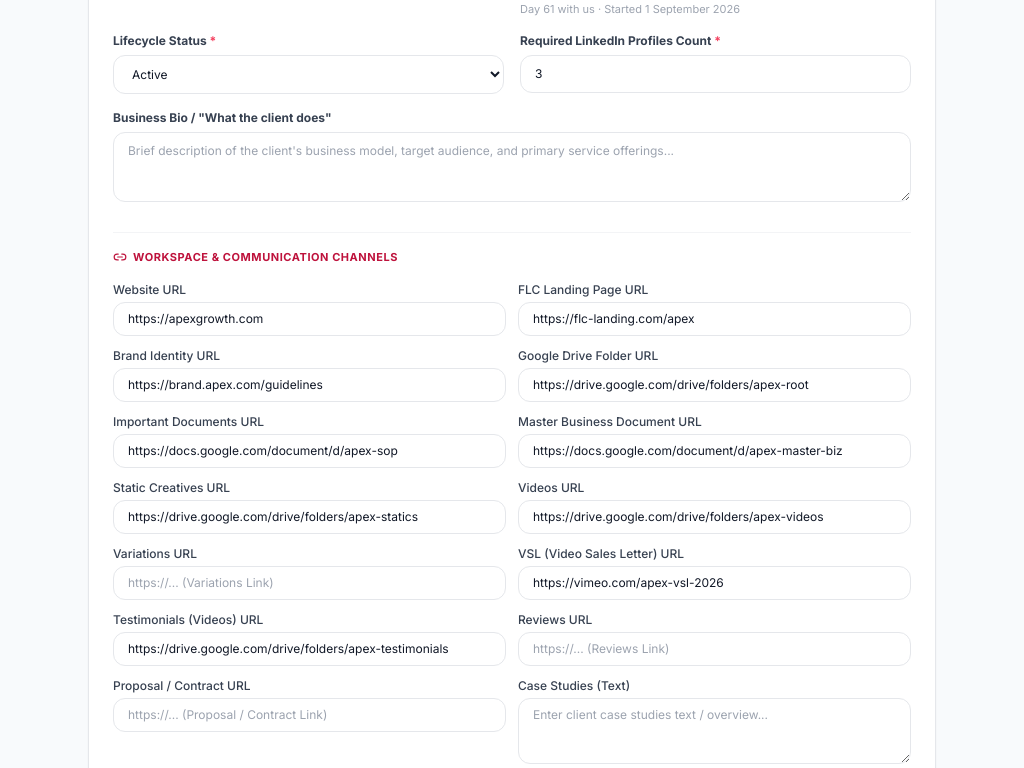
Scenario: Workspace Links & Unsaved Draft Protection Enhancement Suite › 8. Clicking Discard Changes prompts confirmation modal, reverts changes, and clears draft on confirmation
(page scrolled)
Replace the text in the field labelled "Brand Identity URL" with "https://temporary-modified-brand.com": (310, 384) [113,368,506,402]
(page scrolled)
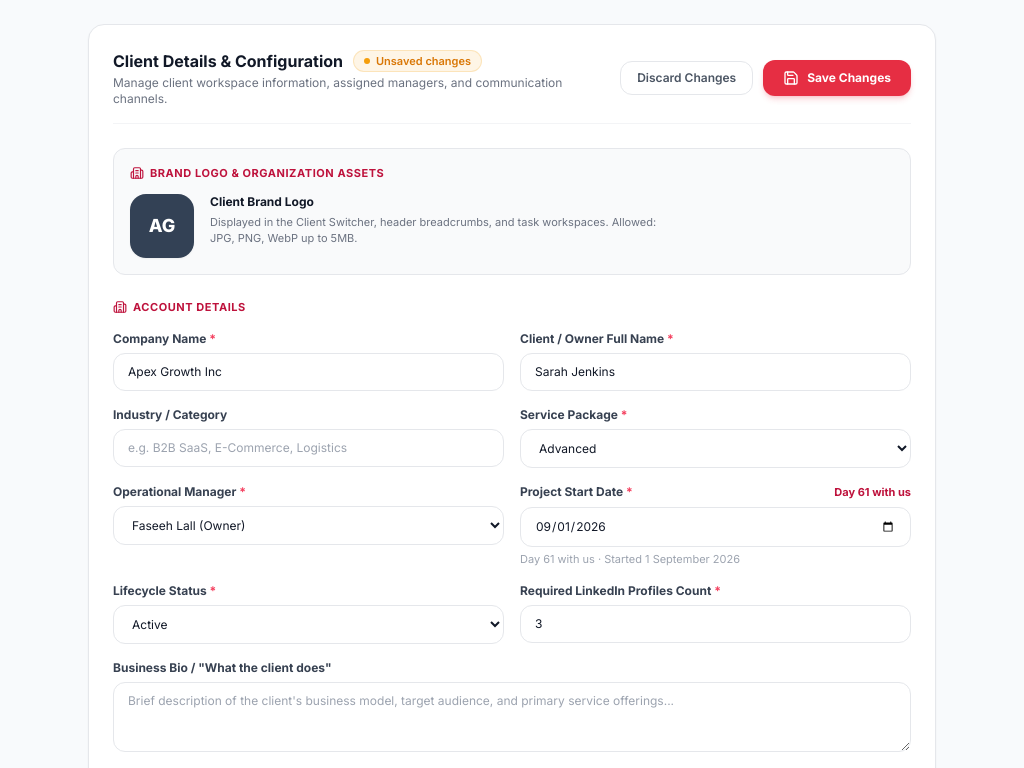
Expected: the element with test id "unsaved-changes-indicator" is shown, [353,50,482,72]
Click the button "Discard Changes": (687, 78) [620,61,753,95]
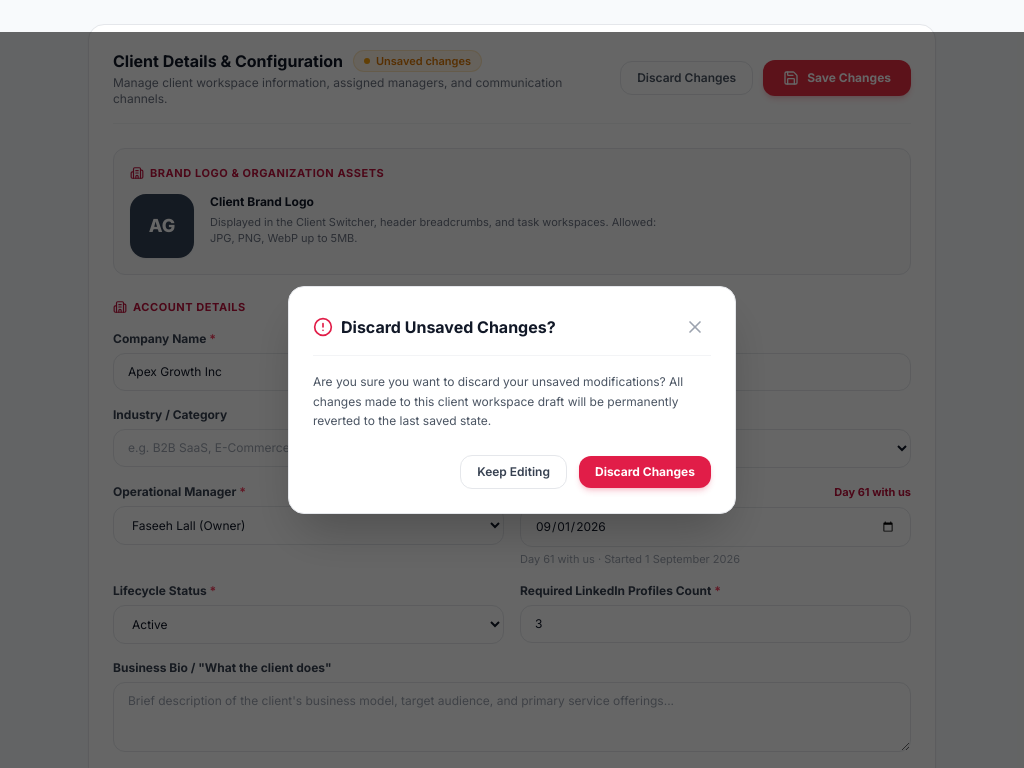
Expected: the heading "Discard Unsaved Changes?" is shown, [341,315,556,339]
Expected: the text "Are you sure you want to discard your unsaved modifications?" is shown, [313,374,683,428]
// Click "Keep Editing" - draft remains
Click the button "Keep Editing": (514, 472) [460,455,567,489]
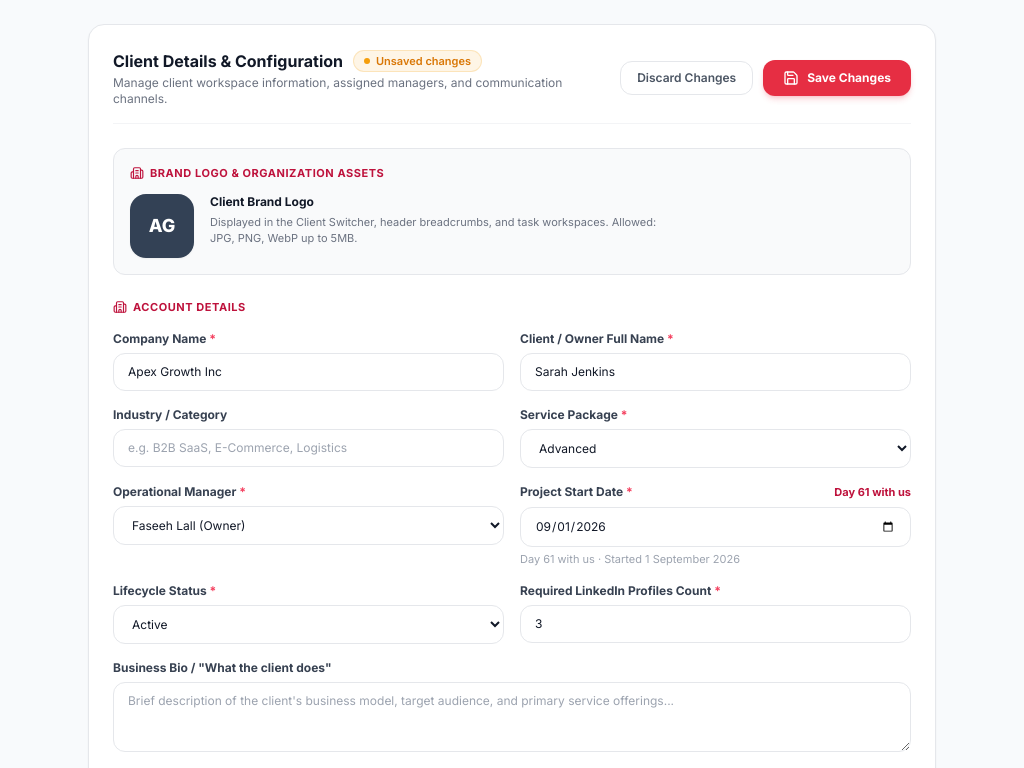
Expected: the element with test id "unsaved-changes-indicator" is shown, [353,50,482,72]
Expected: the heading "Discard Unsaved Changes?" is gone
// Click Discard again and confirm
Click the button "Discard Changes": (687, 78) [620,61,753,95]
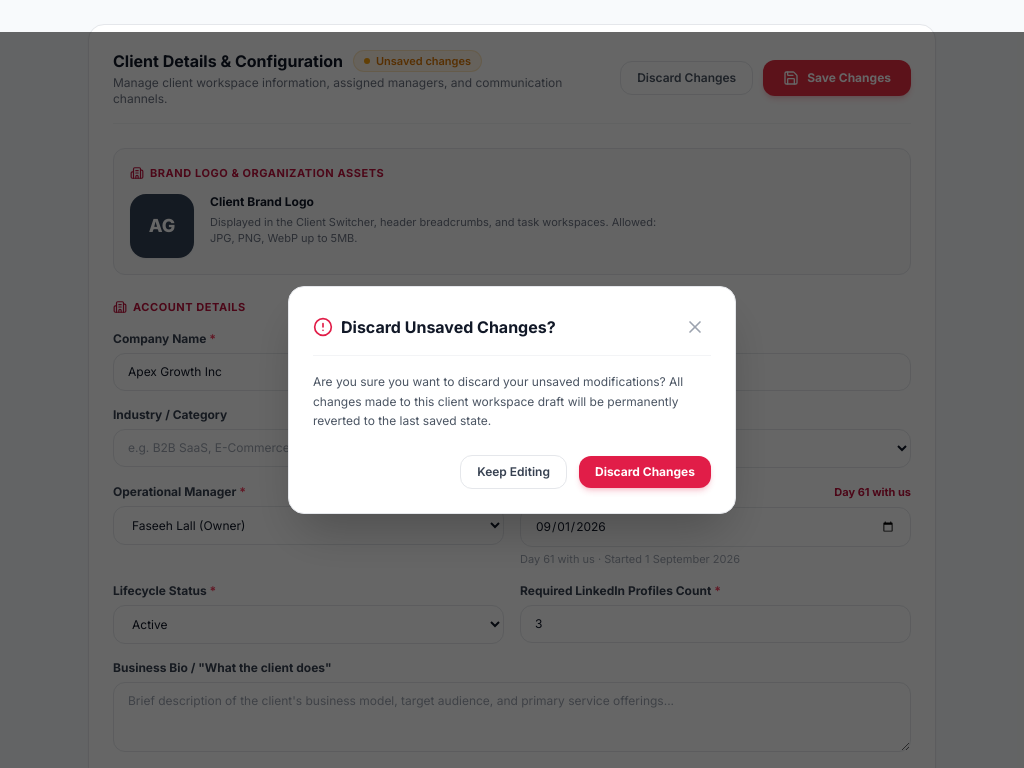
Click the button "Discard Changes": (645, 472) [579,456,711,488]
(page scrolled)
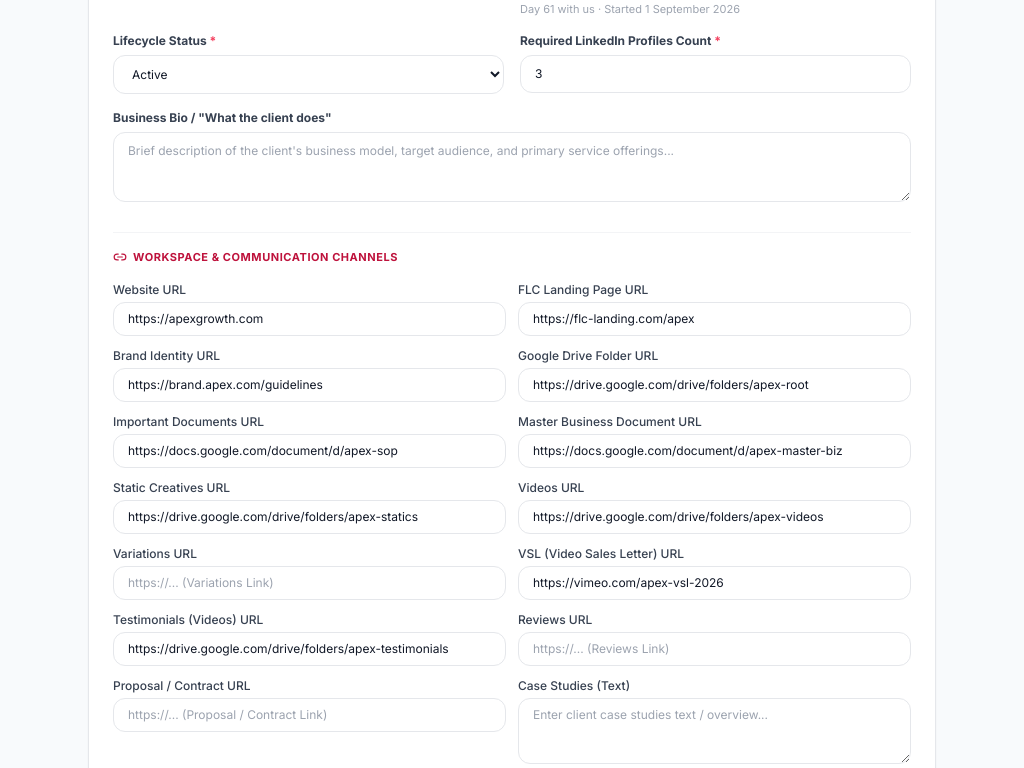
Expected: the field labelled "Brand Identity URL" holds "https://brand.apex.com/guidelines", [113,368,506,402]
Expected: the element with test id "unsaved-changes-indicator" is gone
